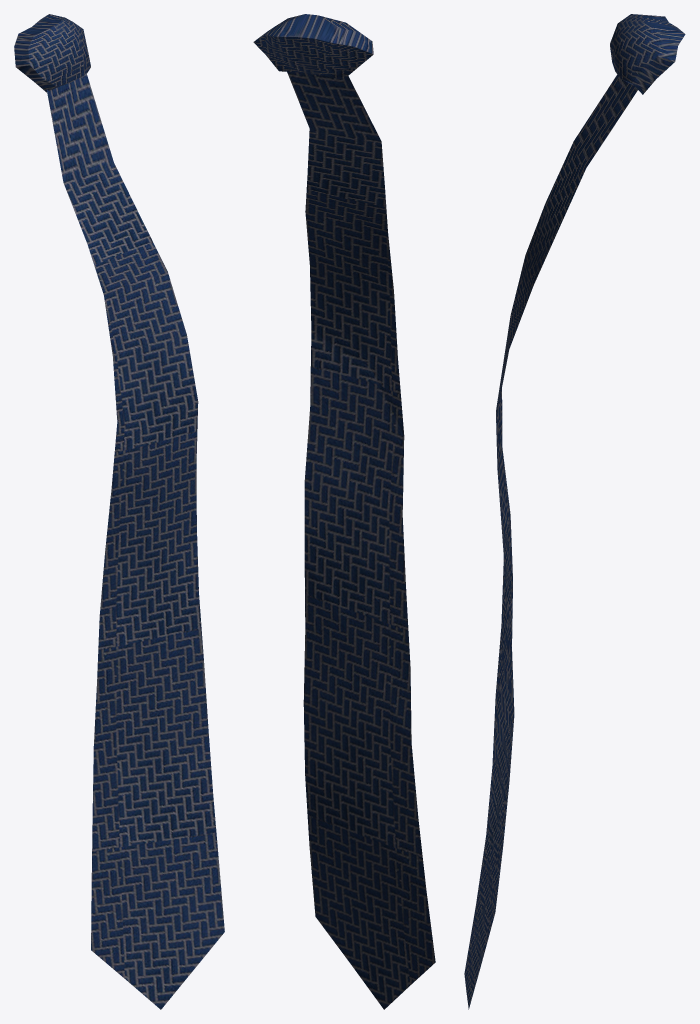
Rendered from Pose-2_Tie-3.fbx.
3 renders of one model, left to right at view 1: azimuth 30°, elevation 25°; view 2: azimuth 150°, elevation 25°; view 3: azimuth 270°, elevation 25°, orthographic. The views are drawn at different scales.
Visible parts, largest first — view 1: Pose-2_Tie-3; view 2: Pose-2_Tie-3; view 3: Pose-2_Tie-3.
Boxes of the visible parts, box(x1,y1,x2,y2) form: Pose-2_Tie-3: box(14, 14, 224, 1009); Pose-2_Tie-3: box(253, 14, 435, 1009); Pose-2_Tie-3: box(464, 14, 685, 1009).
Bounding box in the file's own units: 7.45 × 51 × 10.44.
